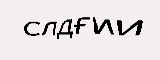Д: (57, 14, 74, 39)
И: (116, 15, 144, 36), (91, 15, 117, 36)
Л: (39, 16, 59, 37)
С: (20, 16, 41, 38)
Ғ: (73, 13, 90, 34)
